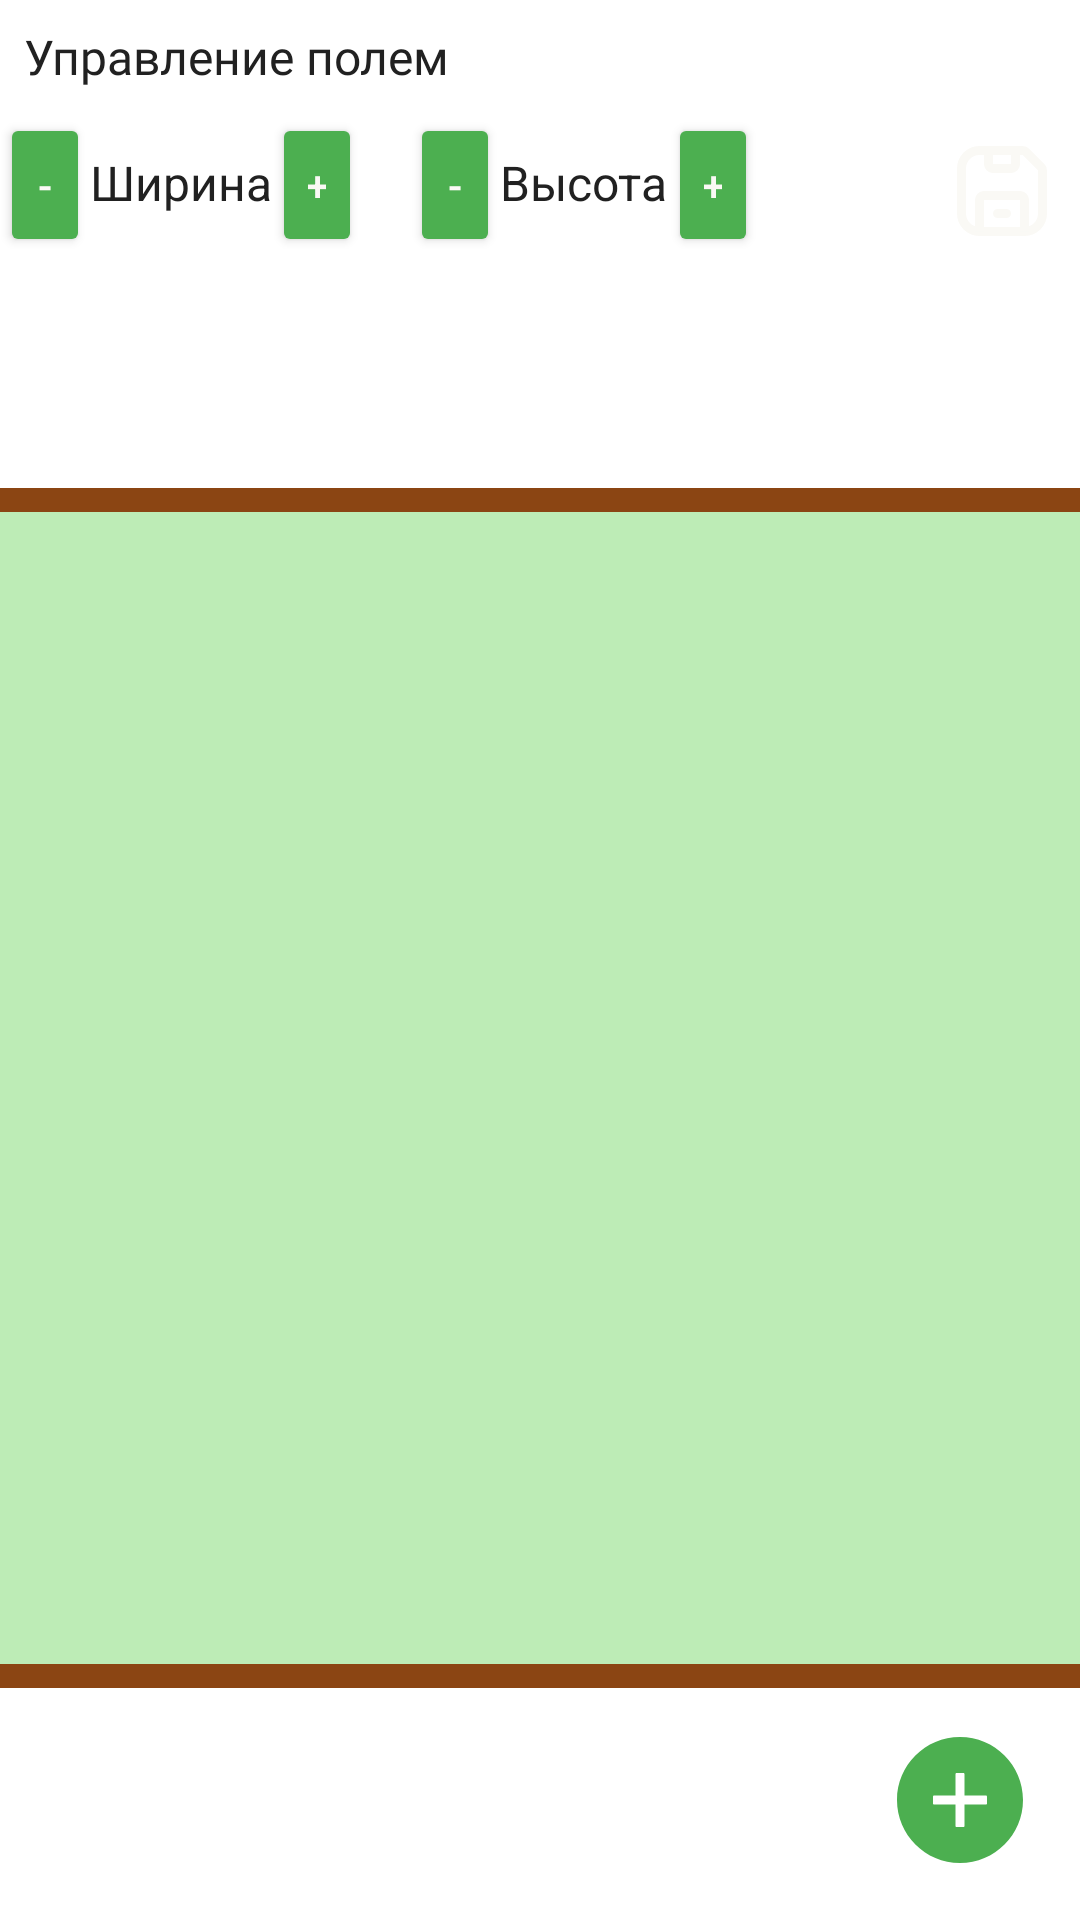

Screen size 1080×1920. Icon name, then its box in pixels as (x1, y1, x2, y2):
plus: (897, 1737, 1023, 1863)
